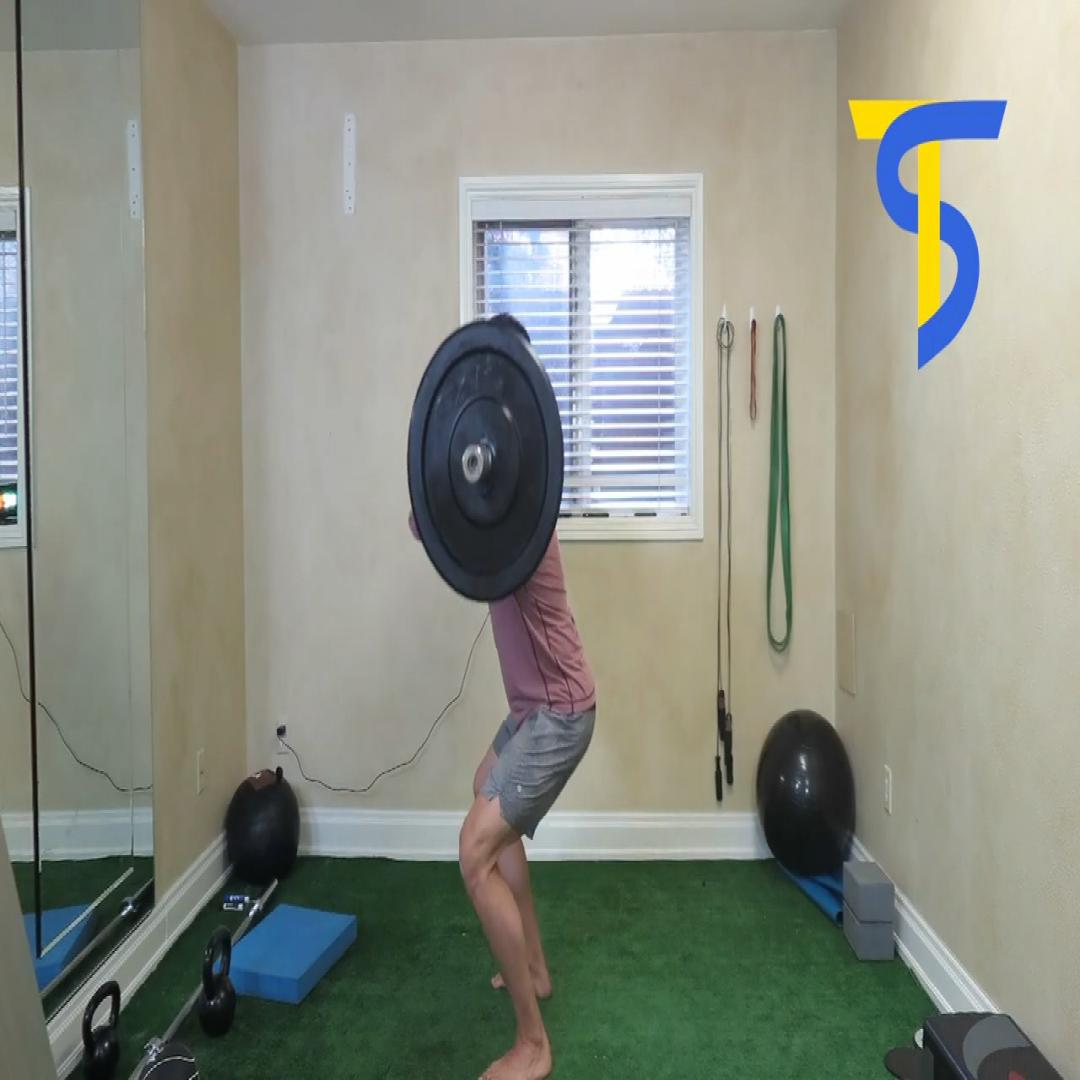Bar: (461, 442, 484, 484)
Barbell: (406, 319, 564, 603)
